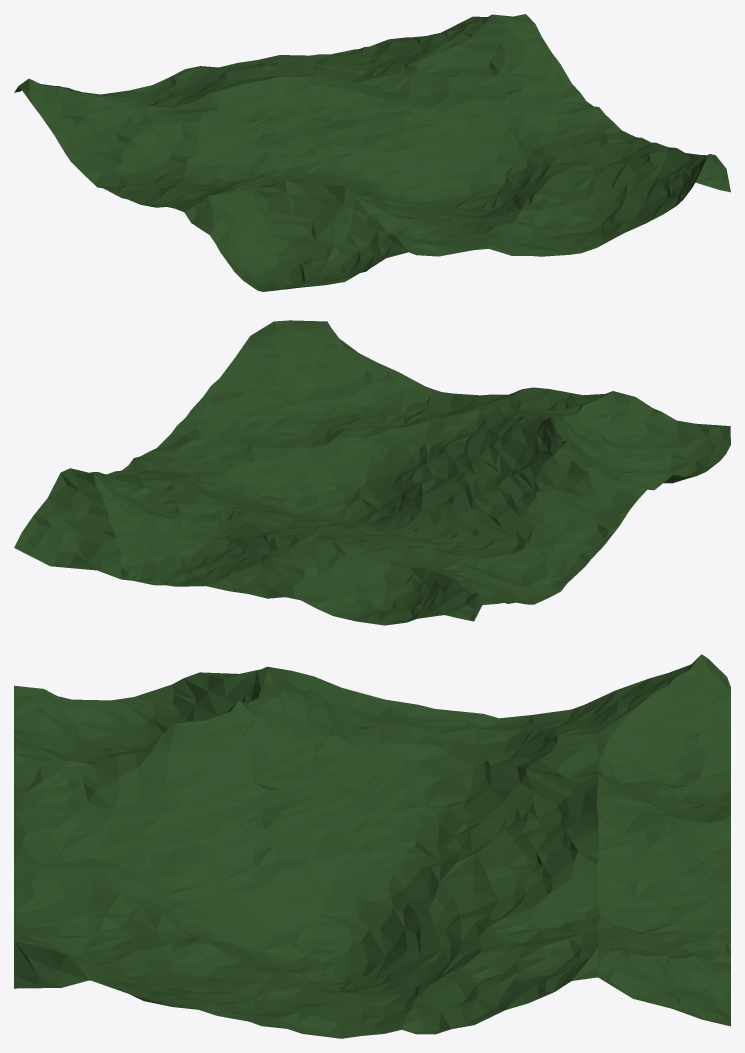
File: SM_landscape_20.fbx
3 renders of one model, top to bottom at view 1: azimuth 30°, elevation 25°; view 2: azimuth 150°, elevation 25°; view 3: azimuth 270°, elevation 25°, orthographic. The views are drawn at different scales.
Parts seen in each view (by area): view 1: landscape_20; view 2: landscape_20; view 3: landscape_20.
Boxes of the visible parts, x1,y1,x2,y2 form: landscape_20: (14, 14, 730, 291); landscape_20: (14, 320, 730, 625); landscape_20: (14, 654, 730, 1038).
Size of the model in its own units: 2224 by 453 by 2224.
